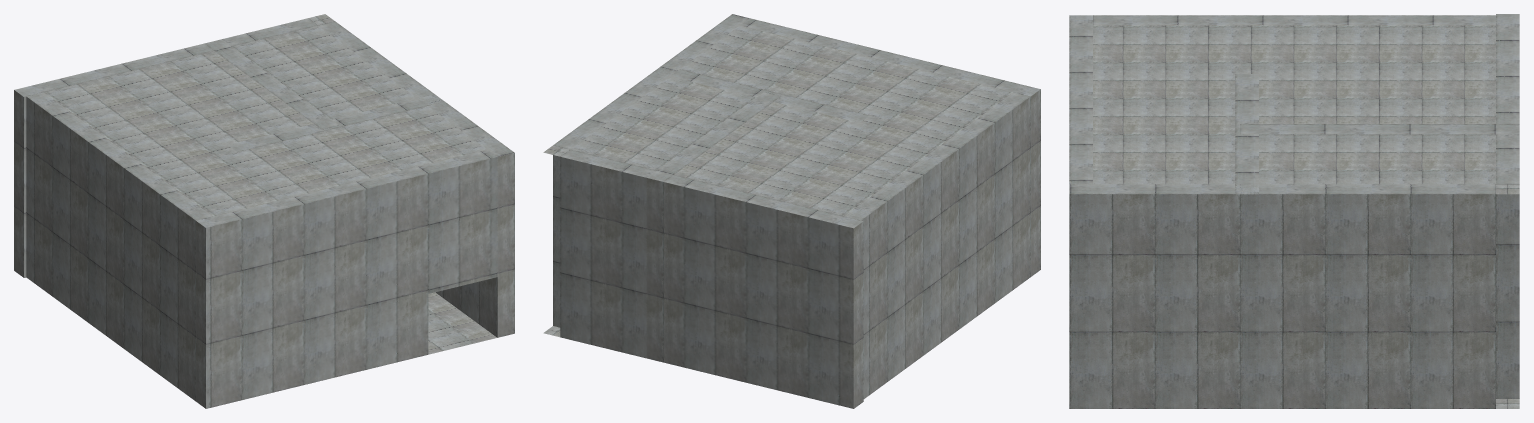
Rendered from Level_36.fbx.
3 renders of one model, left to right at view 1: azimuth 30°, elevation 25°; view 2: azimuth 150°, elevation 25°; view 3: azimuth 270°, elevation 25°, orthographic. The views are drawn at different scales.
Visible parts, largest first — view 1: Wall.026; view 2: Wall.026; view 3: Wall.026.
Part boxes in pixels (x1,y1,x2,y2): Wall.026: (14, 14, 514, 408); Wall.026: (543, 14, 1040, 408); Wall.026: (1069, 14, 1519, 408).
Bounding box in the file's own units: 18 × 19 × 10.
